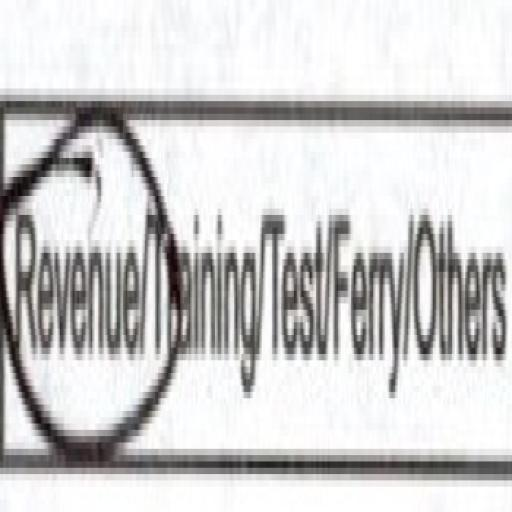check: (0, 25, 140, 505)
